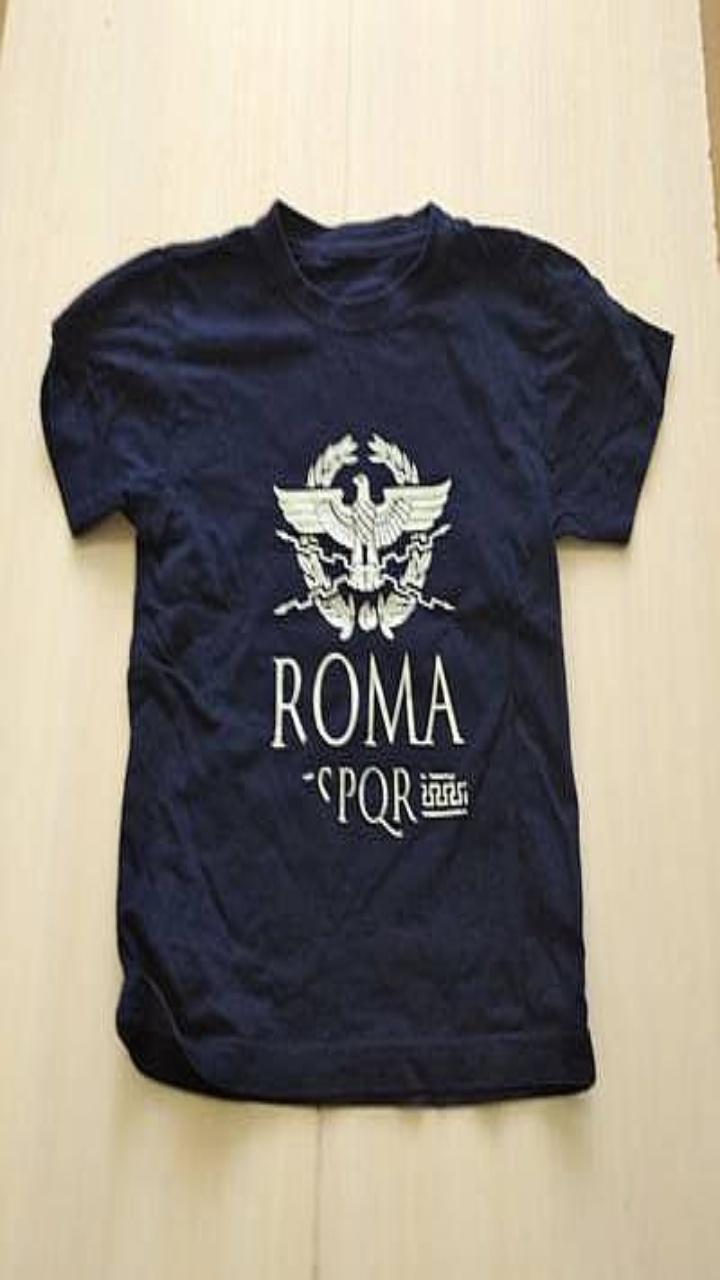T-Shirt: (40, 199, 673, 1103)
